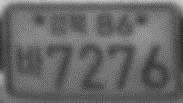3: (77, 42, 107, 91)
6: (139, 43, 171, 91), (115, 13, 135, 37)
7: (105, 42, 137, 92), (42, 42, 73, 89)
8: (95, 12, 114, 37)
경북_H: (46, 10, 88, 37)
바: (14, 44, 45, 77)
